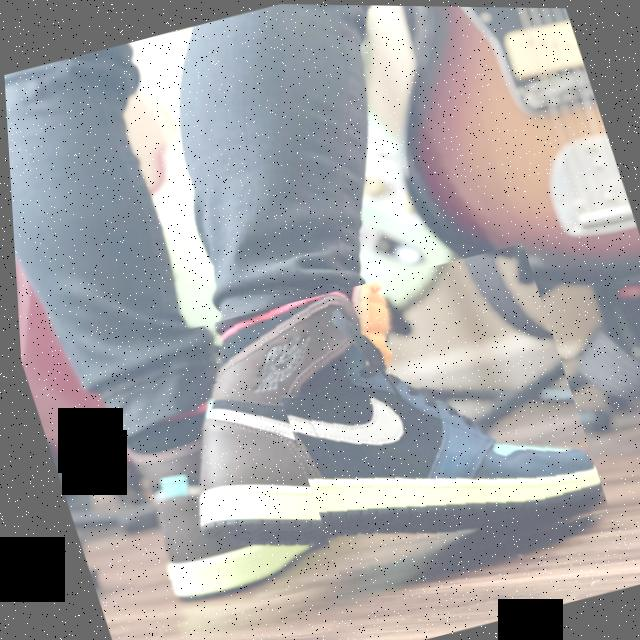shoe: (120, 236, 614, 634), (86, 365, 336, 628)
